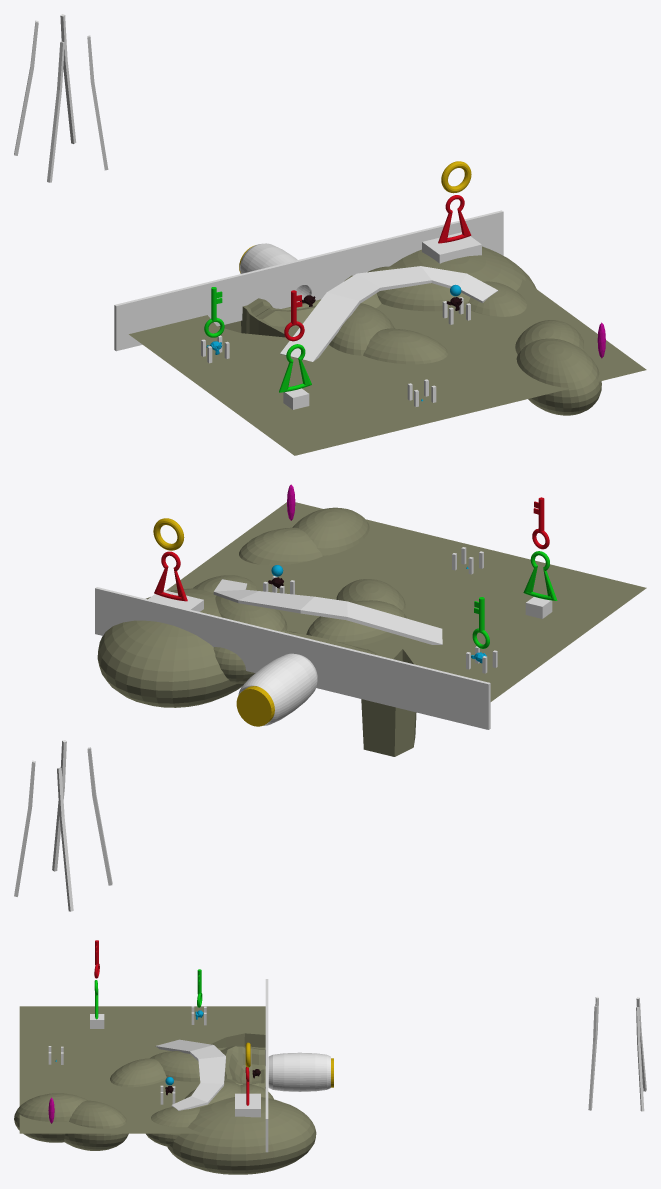
The model's file is Deserto Area 1.fbx.
The picture shows the model from 3 angles, top to bottom: view 1: azimuth 30°, elevation 25°; view 2: azimuth 150°, elevation 25°; view 3: azimuth 270°, elevation 25°; orthographic projection. The views are drawn at different scales.
Parts seen in each view (by area): view 1: Plane.001, Cube.004, Cube.005, Sphere.006, Cube.007, Sphere.005, Sphere.002, Sphere, Sphere.001, Sphere.003, Plane, Torus.004 (+4 smaller); view 2: Plane.001, Cube.004, Sphere.005, Cube.005, Torus.004, Cube.007, Sphere.006, Sphere.007, Sphere, Sphere.001, Sphere.002, Cylinder (+3 smaller); view 3: Plane.001, Sphere.005, Torus.004, Cube.005, Sphere.007, Sphere.006, Plane, Sphere.002, Cube.007, Sphere, Sphere.003, Cube.004 (+2 smaller).
Part boxes in pixels (x1=…): Plane.001: x1=129, y1=279, x2=646, y2=455; Cube.004: x1=114, y1=210, x2=503, y2=351; Cube.005: x1=280, y1=266, x2=498, y2=361; Sphere.006: x1=516, y1=338, x2=601, y2=415; Cube.007: x1=14, y1=14, x2=108, y2=182; Sphere.005: x1=390, y1=246, x2=536, y2=290; Sphere.002: x1=363, y1=328, x2=447, y2=364; Sphere: x1=329, y1=303, x2=394, y2=355; Sphere.001: x1=377, y1=283, x2=470, y2=311; Sphere.003: x1=465, y1=281, x2=526, y2=316; Plane: x1=247, y1=275, x2=381, y2=326; Torus.004: x1=240, y1=243, x2=309, y2=302; Plane.001: x1=166, y1=502, x2=646, y2=756; Cube.004: x1=95, y1=587, x2=490, y2=729; Sphere.005: x1=97, y1=588, x2=244, y2=707; Cube.005: x1=213, y1=579, x2=442, y2=644; Torus.004: x1=238, y1=653, x2=317, y2=725; Cube.007: x1=14, y1=740, x2=112, y2=911; Sphere.006: x1=292, y1=507, x2=369, y2=556; Sphere.007: x1=239, y1=527, x2=322, y2=565; Sphere: x1=306, y1=600, x2=406, y2=650; Sphere.001: x1=215, y1=596, x2=287, y2=631; Sphere.002: x1=336, y1=579, x2=405, y2=612; Cylinder: x1=236, y1=686, x2=274, y2=726; Plane.001: x1=19, y1=1006, x2=265, y2=1133; Sphere.005: x1=167, y1=1097, x2=316, y2=1174; Torus.004: x1=268, y1=1052, x2=330, y2=1091; Cube.005: x1=155, y1=1039, x2=225, y2=1110; Sphere.007: x1=64, y1=1100, x2=128, y2=1150; Sphere.006: x1=14, y1=1093, x2=87, y2=1142; Plane: x1=221, y1=1045, x2=265, y2=1088; Sphere.002: x1=110, y1=1058, x2=166, y2=1087; Cube.007: x1=588, y1=996, x2=646, y2=1111; Sphere: x1=150, y1=1051, x2=200, y2=1081; Sphere.003: x1=146, y1=1107, x2=199, y2=1146; Cube.004: x1=265, y1=979, x2=268, y2=1152.
Size of the model in its own units: 24695 by 10891 by 47059.
